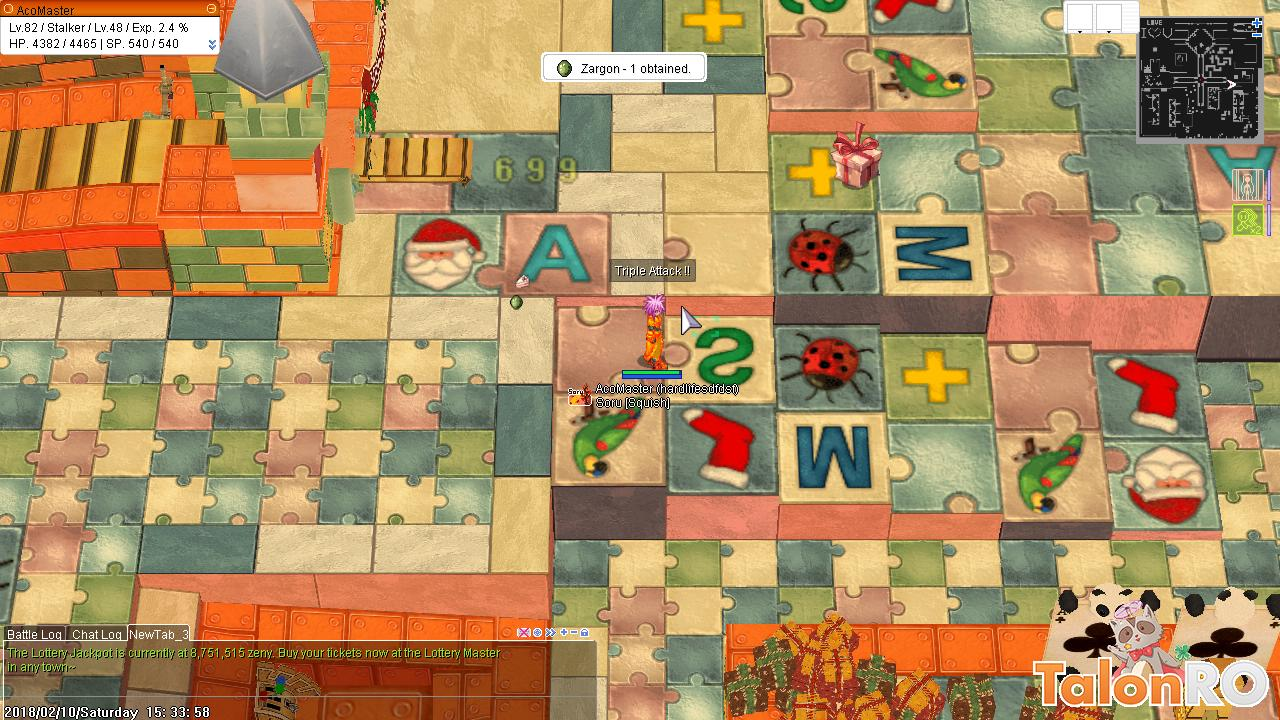loot: (511, 271, 531, 293), (507, 293, 524, 315)
myst_case: (829, 119, 888, 192)
